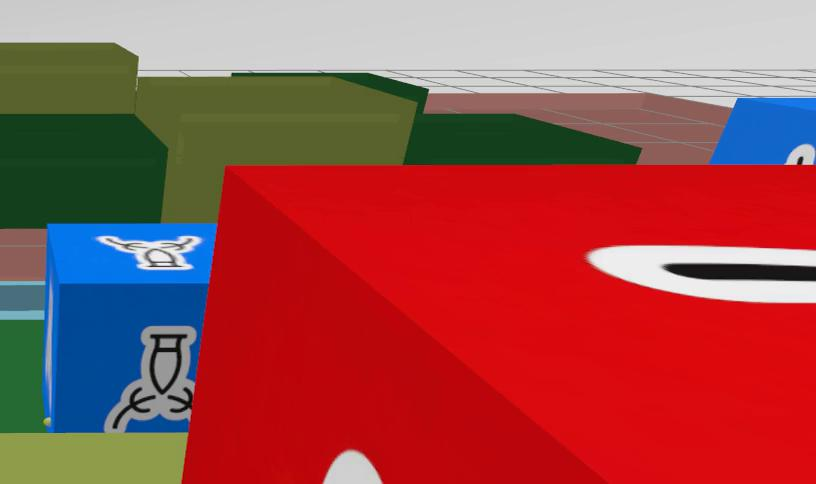KFS_FAKE: (180, 166, 815, 484), (323, 452, 382, 484)
KFS_REAL: (42, 223, 214, 431), (104, 326, 196, 431), (97, 236, 201, 269)
